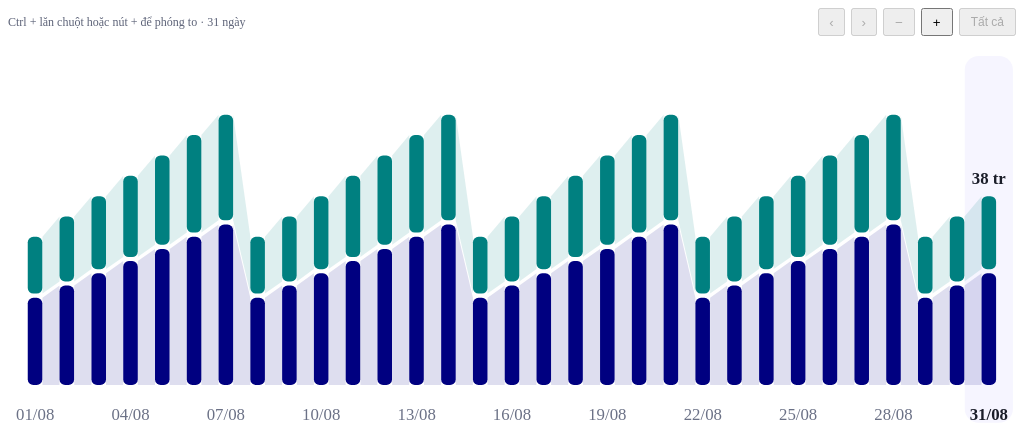
Test: StackedRibbonChart — phóng to / thu nhỏ › bấm Phóng to: số cột hiện giảm (31 → 22) và chữ cho biết đang xem đoạn nào
Step 1. Click the button named "Phóng to biểu đồ" → point(937, 22), box [921,8,953,36]
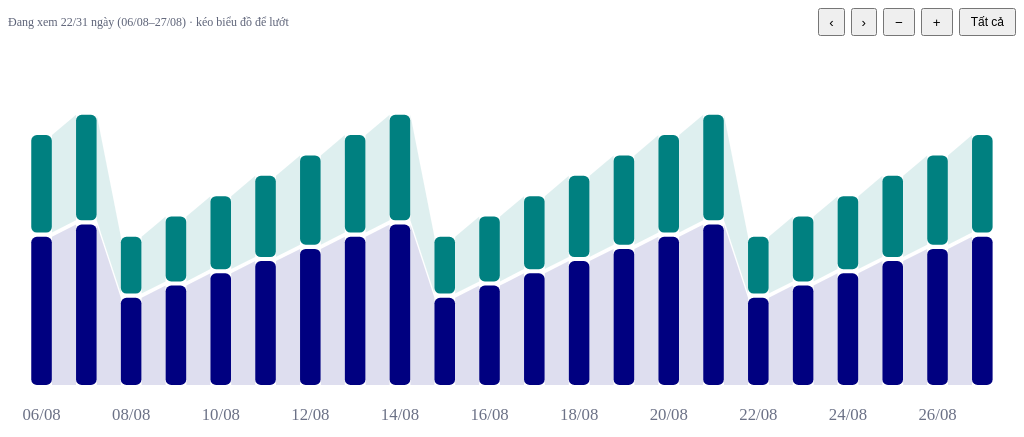
Expected: the button named "Thu nhỏ biểu đồ" is enabled, [883,8,915,36]
Result: the text "Đang xem 22/31 ngày (06/08–27/08) · kéo biểu đồ để lướt" is shown at [8,14,289,30]
